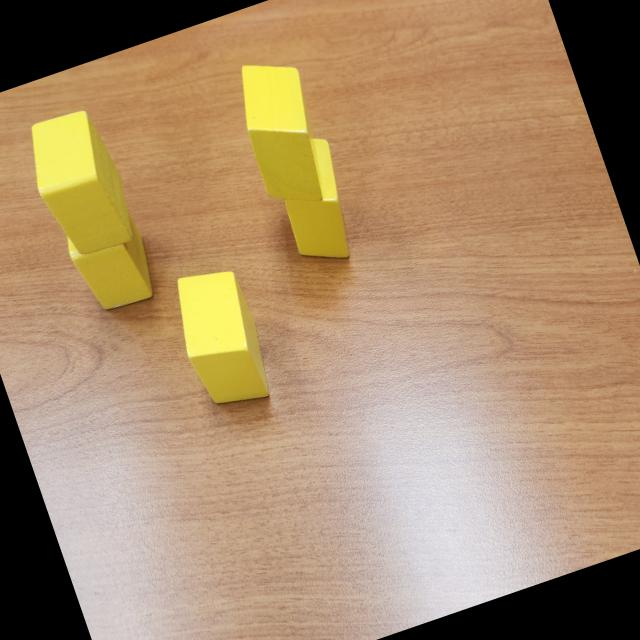yellow: (16, 102, 141, 263), (224, 50, 341, 216), (163, 259, 281, 418), (264, 131, 366, 272), (59, 200, 163, 320)
